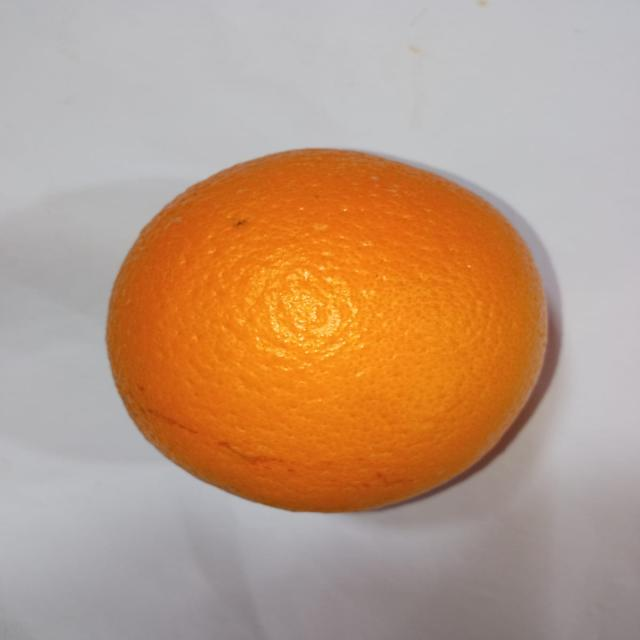fresh_orange: (107, 148, 550, 512)
